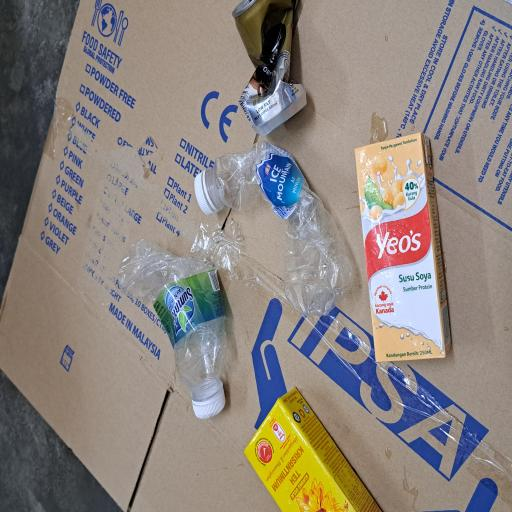can: (282, 310, 384, 408)
cardboard: (0, 0, 384, 512)
drink carton: (0, 325, 93, 512), (110, 470, 286, 512)
plastic bottle: (149, 259, 277, 469), (70, 151, 201, 309)
plastic bottle cap: (72, 253, 102, 302), (224, 259, 258, 292)
